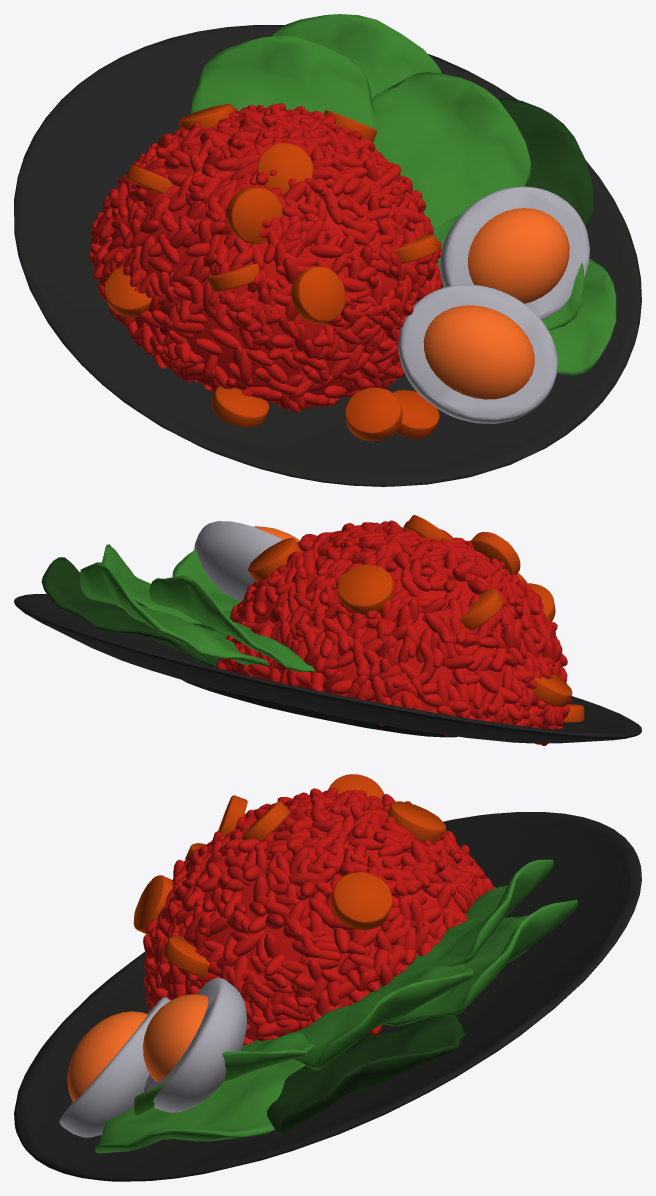
File: nasi-goreng.glb
3 renders of one model, top to bottom at view 1: azimuth 30°, elevation 25°; view 2: azimuth 150°, elevation 25°; view 3: azimuth 270°, elevation 25°, orthographic. The views are drawn at different scales.
Visible parts, largest first — view 1: Circle.175, Plane.056, Plane.068, Circle.176, Sphere.015, Sphere.016, Circle.177, Cube.052, Plane.042, Plane.021, Plane.043, Cylinder.013 (+11 smaller); view 2: Circle.175, Plane.042, Circle.177, Plane.021, Plane.068, Cube.052, Cylinder, Plane.056, Plane.069, Cylinder.011, Cylinder.019, Cylinder.012 (+3 smaller); view 3: Circle.175, Plane.021, Plane.043, Circle.177, Plane.056, Plane.042, Plane.068, Circle.176, Sphere.016, Sphere.015, Cube.052, Cylinder.011 (+7 smaller).
Part boxes in pixels (<box>): Circle.175: <box>14,25,641,486</box>; Plane.056: <box>370,72,530,232</box>; Plane.068: <box>190,35,373,127</box>; Circle.176: <box>398,284,557,423</box>; Sphere.015: <box>423,305,534,399</box>; Sphere.016: <box>468,208,569,303</box>; Circle.177: <box>440,186,589,320</box>; Cube.052: <box>111,127,423,402</box>; Plane.042: <box>272,14,441,98</box>; Plane.021: <box>497,98,594,228</box>; Plane.043: <box>549,258,616,375</box>; Cylinder.013: <box>291,266,345,324</box>; Circle.175: <box>14,594,641,743</box>; Plane.042: <box>80,562,268,666</box>; Circle.177: <box>194,521,282,601</box>; Plane.021: <box>41,557,218,667</box>; Plane.068: <box>149,575,315,672</box>; Cube.052: <box>253,546,553,728</box>; Cylinder: <box>337,564,393,614</box>; Plane.056: <box>102,544,230,637</box>; Plane.069: <box>172,550,240,611</box>; Cylinder.011: <box>248,538,301,582</box>; Cylinder.019: <box>471,532,520,574</box>; Cylinder.012: <box>460,588,503,630</box>; Circle.175: <box>14,812,641,1181</box>; Plane.021: <box>267,1015,465,1135</box>; Plane.043: <box>95,1059,305,1153</box>; Circle.177: <box>143,977,246,1112</box>; Plane.056: <box>286,964,473,1070</box>; Plane.042: <box>385,900,577,1026</box>; Plane.068: <box>380,859,553,986</box>; Circle.176: <box>59,997,170,1137</box>; Sphere.016: <box>143,994,208,1081</box>; Sphere.015: <box>67,1011,147,1102</box>; Cube.052: <box>167,831,465,1041</box>; Cylinder.011: <box>331,872,392,930</box>.
Bounding box in the file's own units: 0.27 × 0.1212 × 0.2493.
